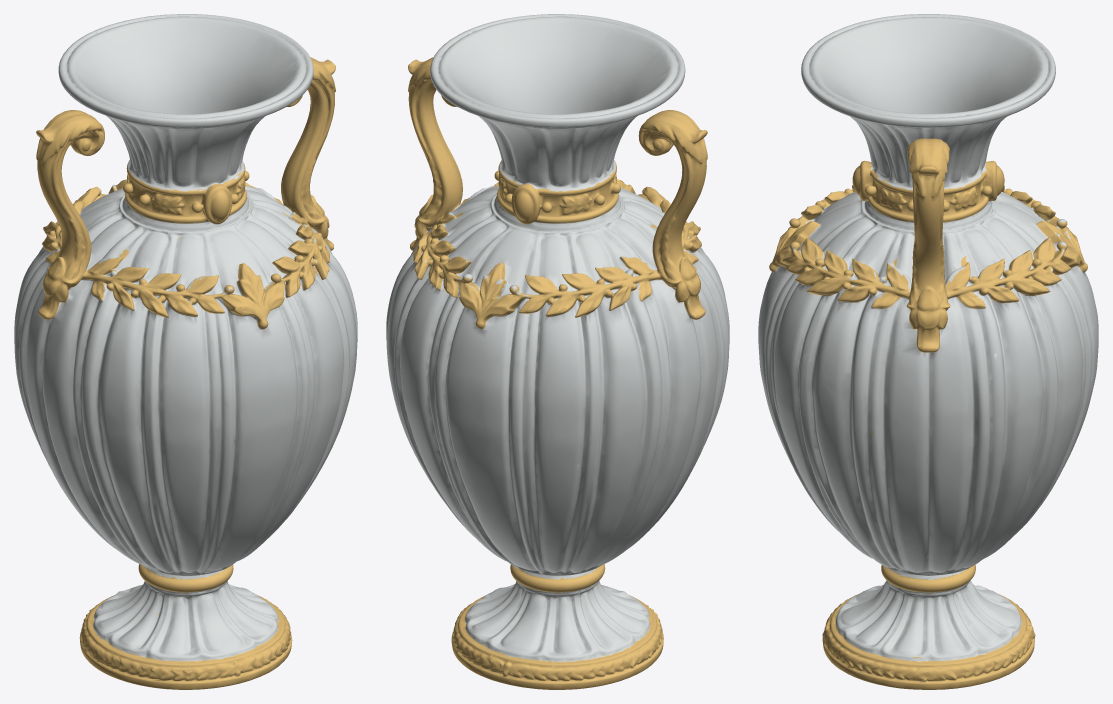
Rendered from moon-amphora-qa-v2.glb.
3 renders of one model, left to right at view 1: azimuth 30°, elevation 25°; view 2: azimuth 150°, elevation 25°; view 3: azimuth 270°, elevation 25°, orthographic.
Visible parts, largest first — view 1: vase_amphora_intact, vase_amphora; view 2: vase_amphora_intact, vase_amphora; view 3: vase_amphora_intact, vase_amphora.
Part boxes in pixels (x1,y1,x2,y2): vase_amphora_intact: [14, 14, 357, 689]; vase_amphora: [14, 14, 357, 689]; vase_amphora_intact: [386, 14, 729, 689]; vase_amphora: [386, 14, 729, 689]; vase_amphora_intact: [758, 14, 1098, 689]; vase_amphora: [758, 14, 1098, 689].
Bounding box in the file's own units: 0.2919 × 0.5499 × 0.2923.
